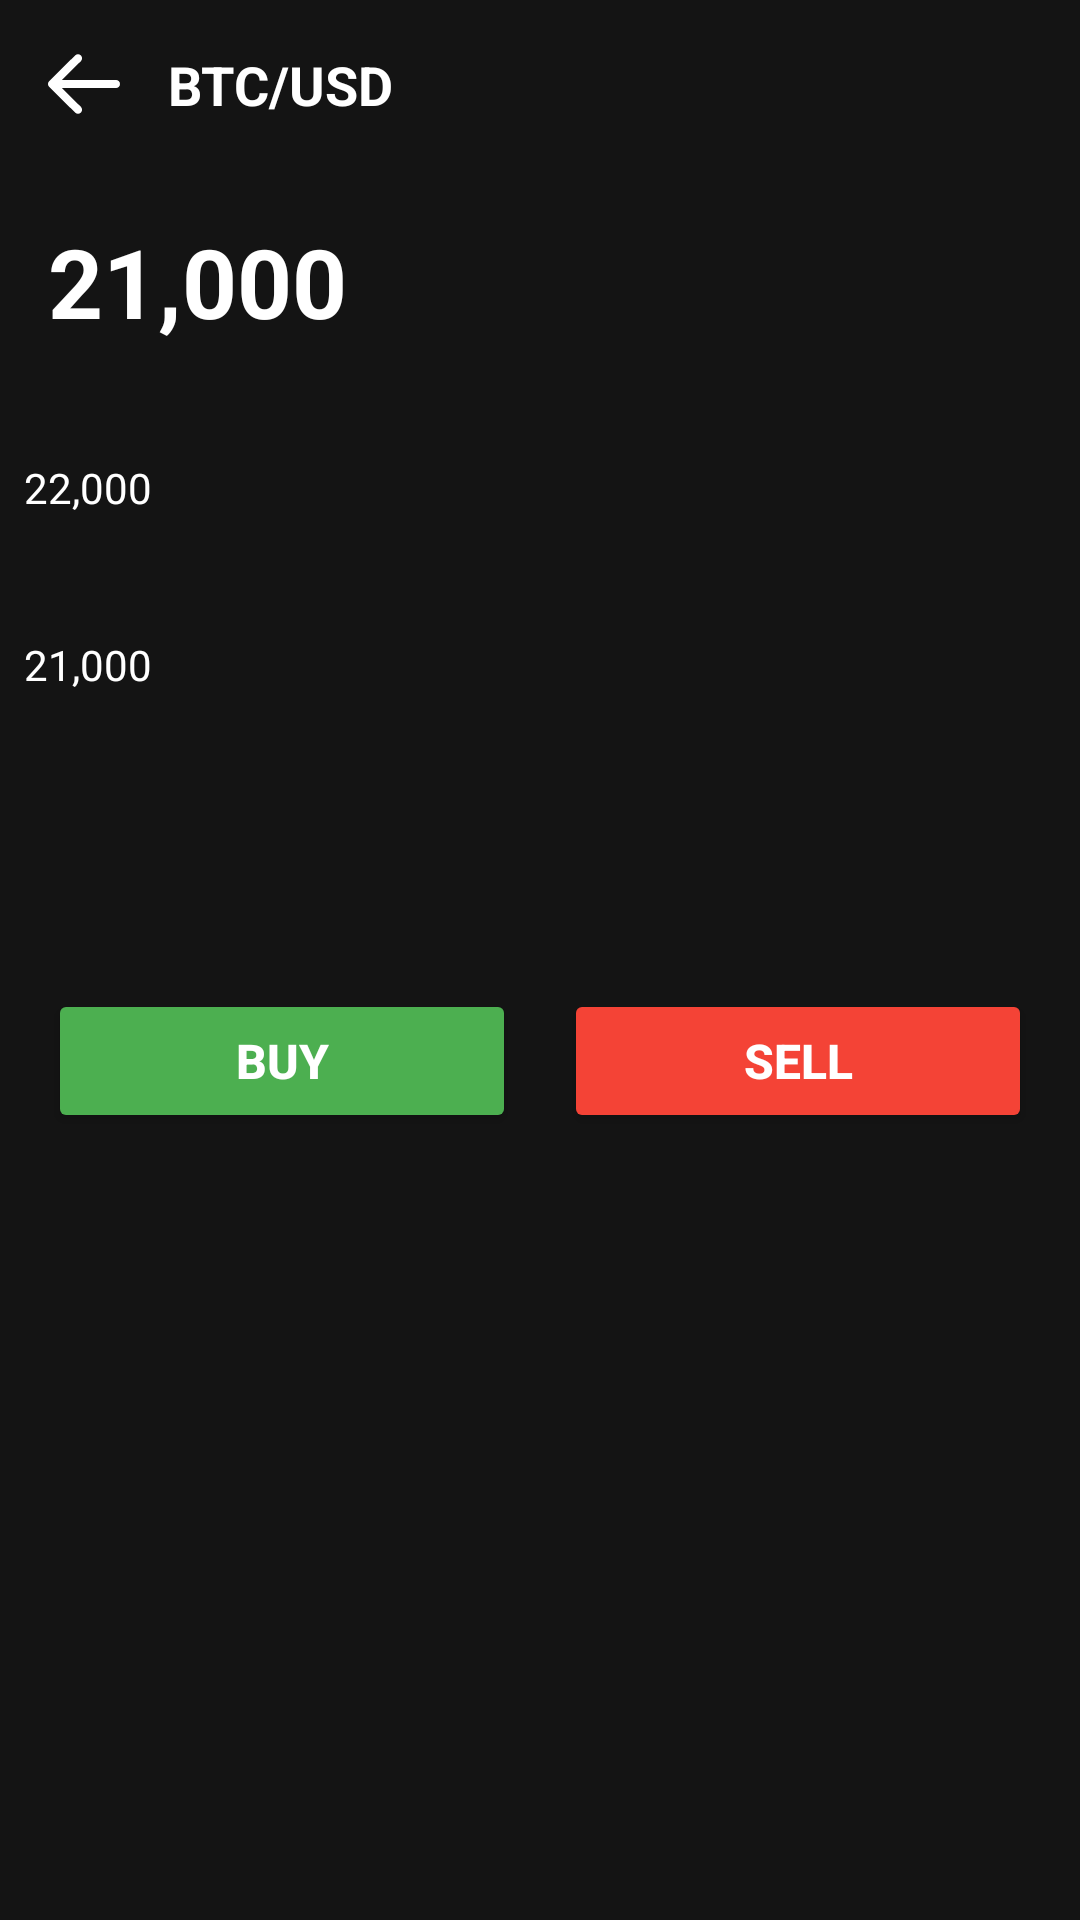

Point at icon controls on the screen. Image size 1080px×1920px, points as (x,y).
Back Arrow: (84,84)
